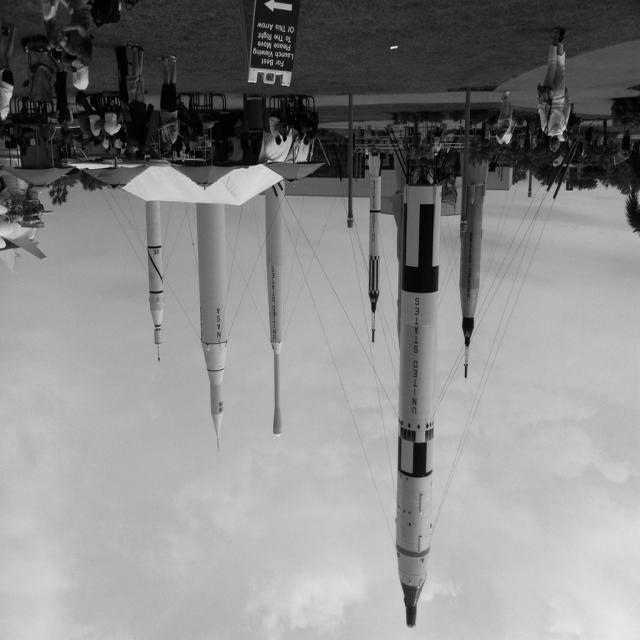missile: (398, 151, 442, 624), (201, 202, 228, 445), (461, 156, 483, 377), (268, 183, 286, 445), (149, 202, 165, 346), (371, 153, 383, 341)
